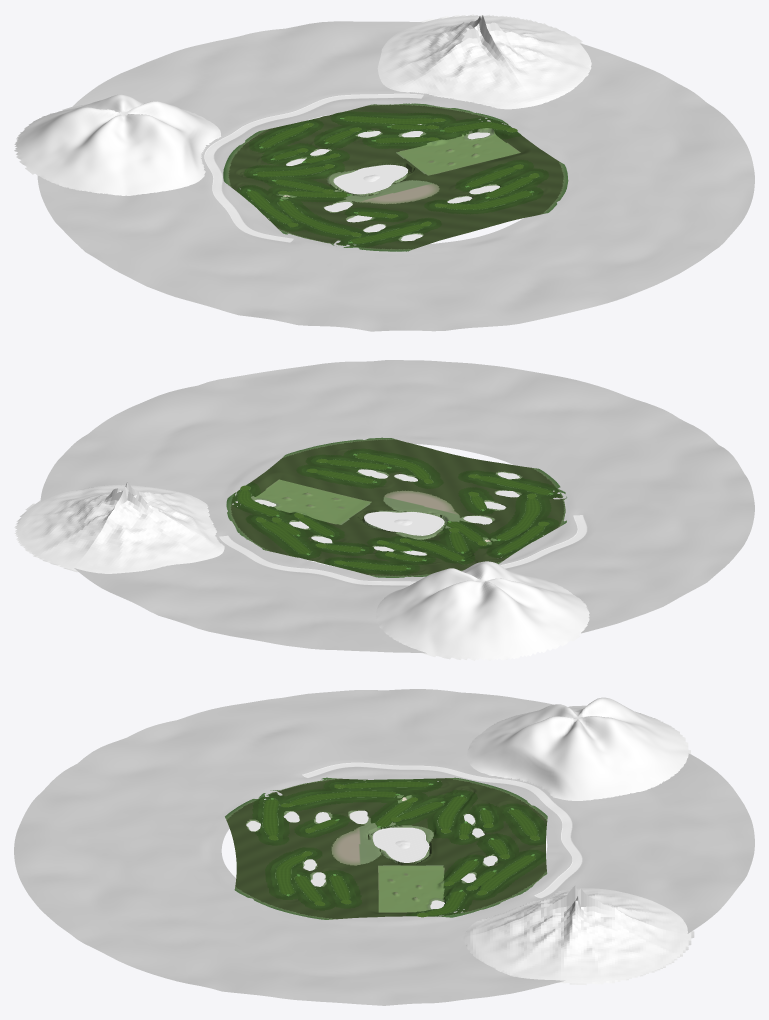
Rendered from course_visual.glb.
3 renders of one model, top to bottom at view 1: azimuth 30°, elevation 25°; view 2: azimuth 150°, elevation 25°; view 3: azimuth 270°, elevation 25°, orthographic. The views are drawn at different scales.
Parts seen in each view (by area): view 1: Forest_Perimeter_Terrain_360, Mountain_02_Rocky_Alpine_NE, Mountain_01_Forested_NW, Rough_Tier4_Native_GG06, Rough_Tier2_Primary_GG04, Conceptual_Terrain_100ha, Rough_Tier3_Heavy_GG05, Forest_River_Water_Flow, Central_Lake_Optical_Water_Surface, Forest_River_Channel_Bed, Fairway_02_Turf_GG02; view 2: Forest_Perimeter_Terrain_360, Mountain_01_Forested_NW, Mountain_02_Rocky_Alpine_NE, Rough_Tier4_Native_GG06, Conceptual_Terrain_100ha, Rough_Tier2_Primary_GG04, Rough_Tier3_Heavy_GG05, Forest_River_Water_Flow, Central_Lake_Optical_Water_Surface, Forest_River_Channel_Bed, Fairway_02_Turf_GG02, Fairway_18_Turf_GG02; view 3: Forest_Perimeter_Terrain_360, Mountain_02_Rocky_Alpine_NE, Mountain_01_Forested_NW, Rough_Tier4_Native_GG06, Rough_Tier2_Primary_GG04, Conceptual_Terrain_100ha, Rough_Tier3_Heavy_GG05, Forest_River_Water_Flow, Central_Lake_Optical_Water_Surface, Forest_River_Channel_Bed, Fairway_02_Turf_GG02, Fairway_09_Turf_GG02 (+1 smaller).
Part boxes in pixels (x1=…): Forest_Perimeter_Terrain_360: x1=37, y1=21, x2=754, y2=331; Mountain_02_Rocky_Alpine_NE: x1=377, y1=14, x2=591, y2=109; Mountain_01_Forested_NW: x1=14, y1=94, x2=221, y2=195; Rough_Tier4_Native_GG06: x1=228, y1=105, x2=563, y2=249; Rough_Tier2_Primary_GG04: x1=240, y1=113, x2=544, y2=246; Conceptual_Terrain_100ha: x1=223, y1=103, x2=568, y2=251; Rough_Tier3_Heavy_GG05: x1=236, y1=111, x2=549, y2=247; Forest_River_Water_Flow: x1=205, y1=94, x2=423, y2=242; Central_Lake_Optical_Water_Surface: x1=336, y1=165, x2=405, y2=193; Forest_River_Channel_Bed: x1=204, y1=93, x2=423, y2=242; Fairway_02_Turf_GG02: x1=278, y1=199, x2=352, y2=234; Forest_Perimeter_Terrain_360: x1=40, y1=360, x2=754, y2=653; Mountain_01_Forested_NW: x1=376, y1=561, x2=589, y2=660; Mountain_02_Rocky_Alpine_NE: x1=14, y1=481, x2=224, y2=573; Rough_Tier4_Native_GG06: x1=230, y1=439, x2=564, y2=576; Conceptual_Terrain_100ha: x1=226, y1=437, x2=566, y2=577; Rough_Tier2_Primary_GG04: x1=232, y1=450, x2=557, y2=572; Rough_Tier3_Heavy_GG05: x1=231, y1=448, x2=561, y2=575; Forest_River_Water_Flow: x1=220, y1=515, x2=586, y2=585; Central_Lake_Optical_Water_Surface: x1=367, y1=512, x2=441, y2=534; Forest_River_Channel_Bed: x1=219, y1=515, x2=587, y2=585; Fairway_02_Turf_GG02: x1=497, y1=498, x2=539, y2=540; Fairway_18_Turf_GG02: x1=355, y1=453, x2=428, y2=479; Forest_Perimeter_Terrain_360: x1=14, y1=689, x2=754, y2=1005; Mountain_02_Rocky_Alpine_NE: x1=463, y1=885, x2=694, y2=985; Mountain_01_Forested_NW: x1=467, y1=697, x2=690, y2=800; Rough_Tier4_Native_GG06: x1=226, y1=778, x2=547, y2=919; Rough_Tier2_Primary_GG04: x1=257, y1=779, x2=544, y2=916; Conceptual_Terrain_100ha: x1=225, y1=777, x2=547, y2=919; Rough_Tier3_Heavy_GG05: x1=251, y1=778, x2=546, y2=916; Forest_River_Water_Flow: x1=303, y1=763, x2=581, y2=898; Central_Lake_Optical_Water_Surface: x1=374, y1=828, x2=427, y2=861; Forest_River_Channel_Bed: x1=302, y1=762, x2=582, y2=898; Fairway_02_Turf_GG02: x1=289, y1=791, x2=397, y2=805; Fairway_09_Turf_GG02: x1=481, y1=855, x2=535, y2=891.
Size of the model in its own units: 2240 by 201 by 2240.
